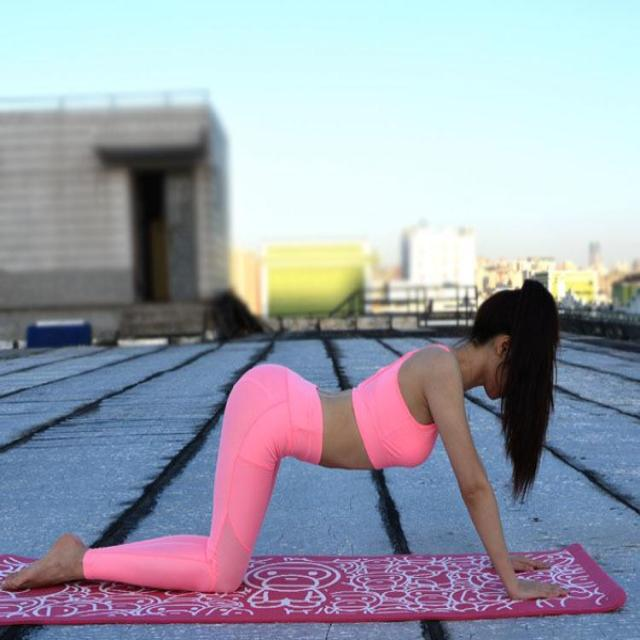trousers: (84, 365, 324, 594)
vest: (352, 345, 450, 471)
